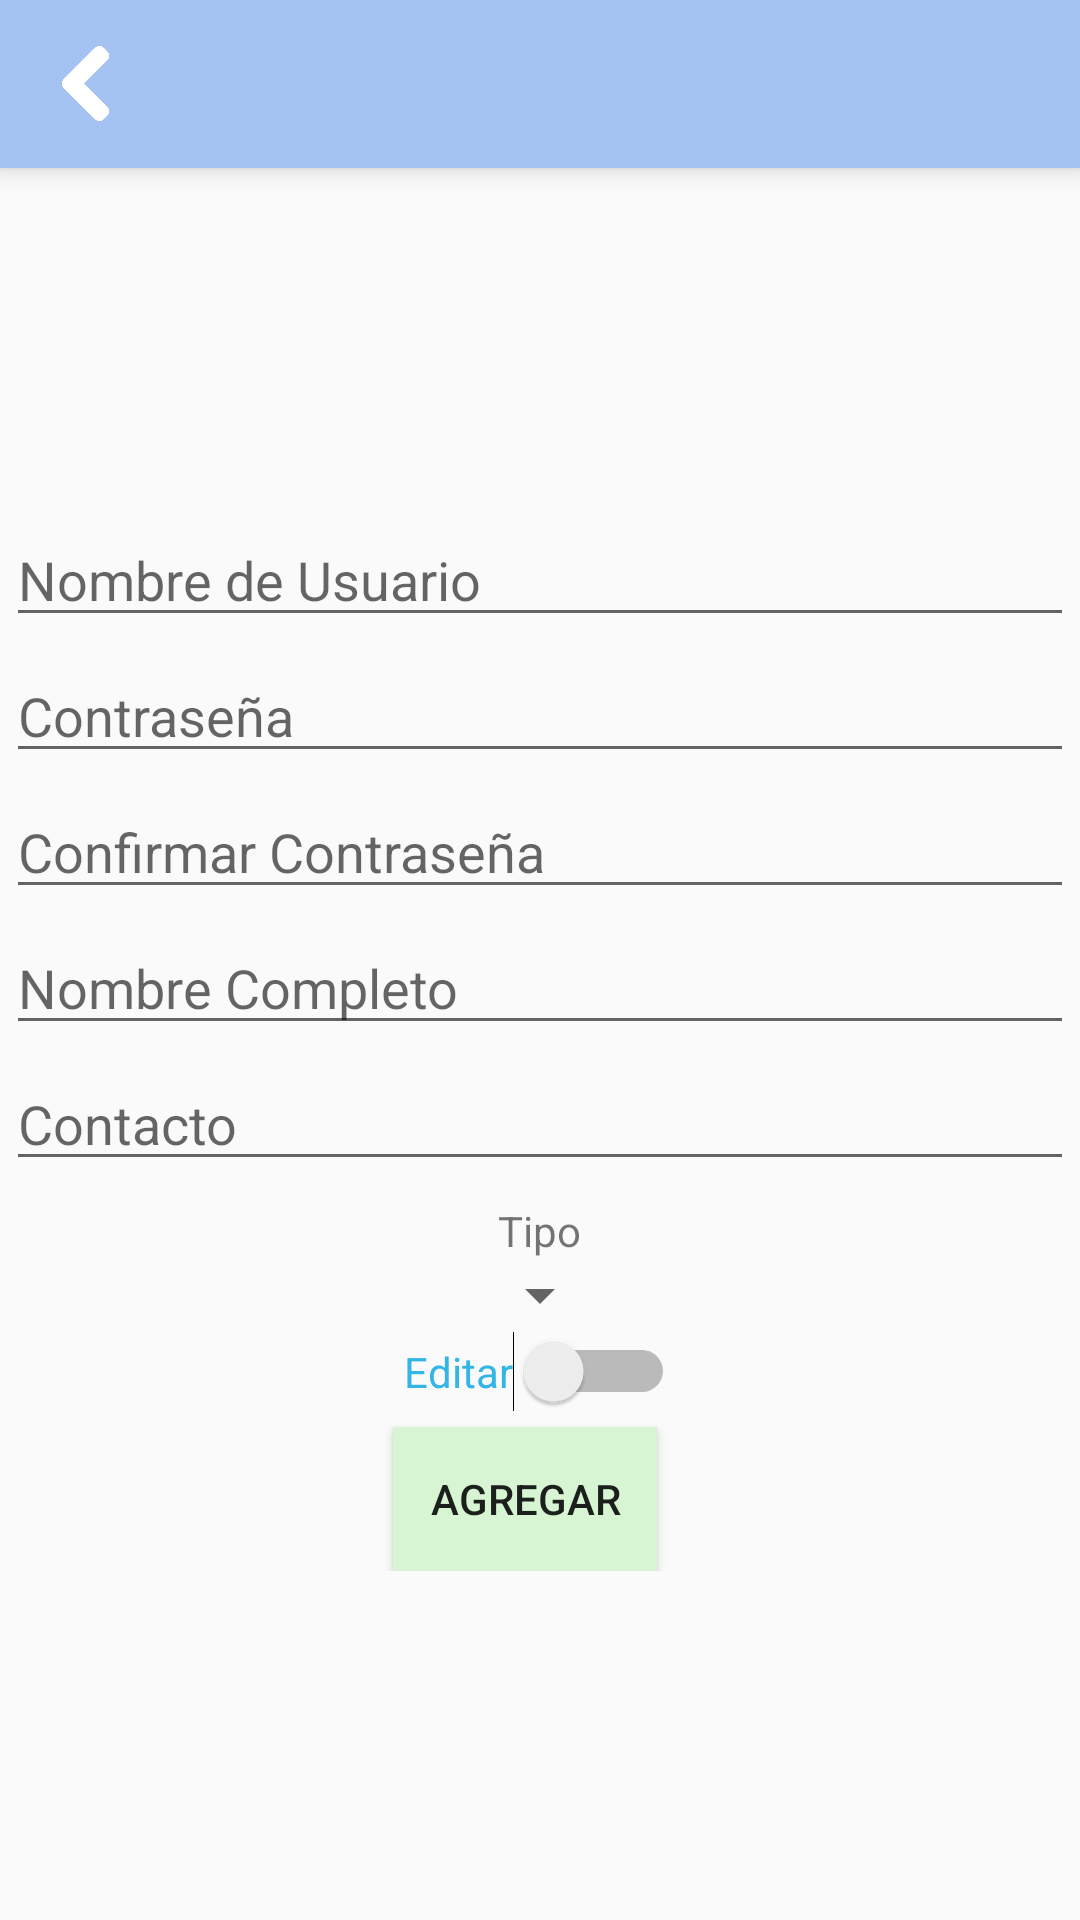

Where to tap for icons on this 1080*1920 app screen, as (x,y):
back: (85,83)
